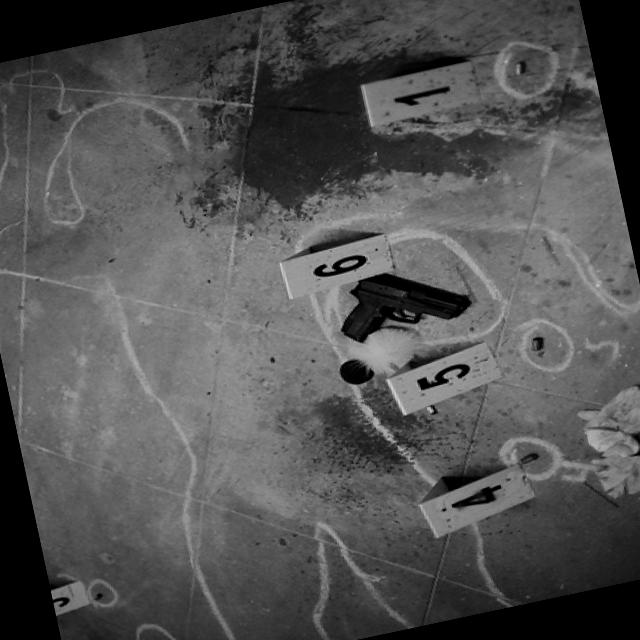handgun: (323, 255, 479, 350)
